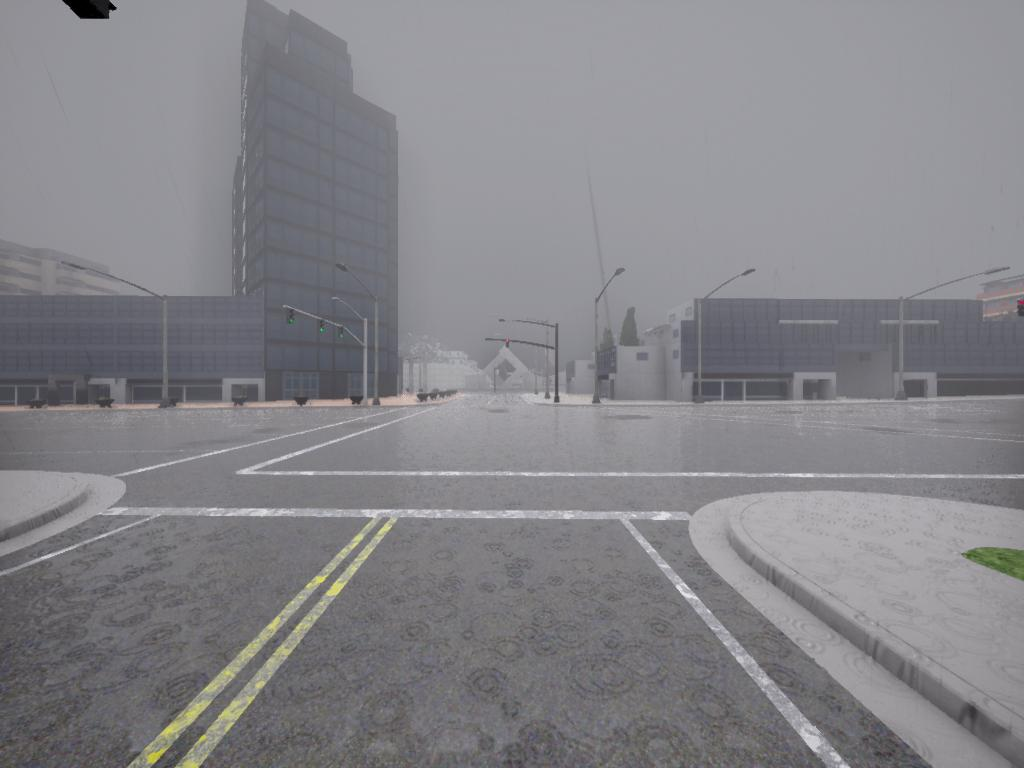traffic_light: (59, 2, 116, 21), (286, 308, 296, 325), (1015, 301, 1023, 321), (318, 319, 326, 334), (339, 327, 346, 341), (506, 340, 511, 350)
